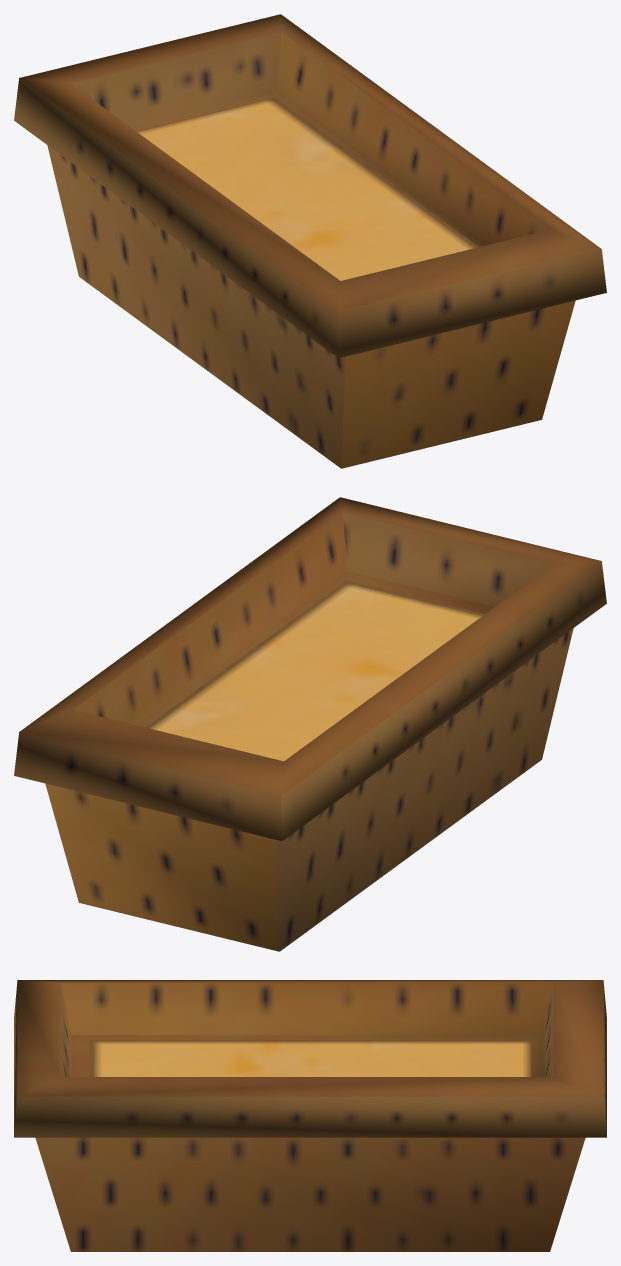
Rendered from CheeseMoldFull2.fbx.
3 renders of one model, top to bottom at view 1: azimuth 30°, elevation 25°; view 2: azimuth 150°, elevation 25°; view 3: azimuth 270°, elevation 25°, orthographic. The views are drawn at different scales.
Parts seen in each view (by area): view 1: Cube; view 2: Cube; view 3: Cube.
Boxes of the visible parts, x1,y1,x2,y2 form: Cube: [14, 14, 606, 468]; Cube: [14, 497, 606, 951]; Cube: [14, 980, 606, 1251].
Size of the model in its own units: 0.1894 by 0.1304 by 0.3969.
